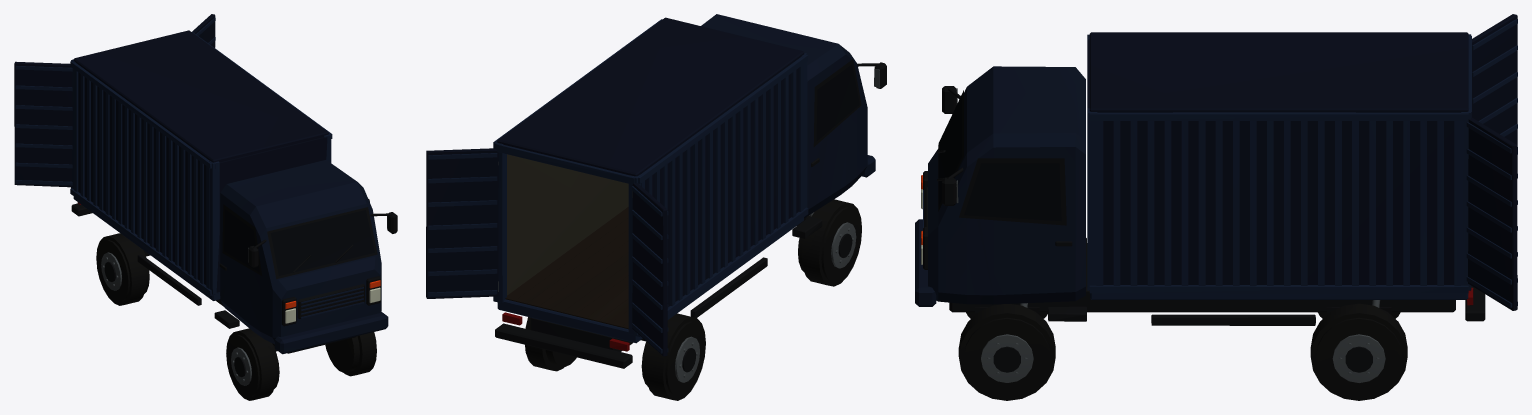
File: MetalSteezy_Camion_Caisse.fbx
3 renders of one model, left to right at view 1: azimuth 30°, elevation 25°; view 2: azimuth 150°, elevation 25°; view 3: azimuth 270°, elevation 25°, orthographic. The views are drawn at different scales.
Visible parts, largest first — view 1: MetalSteezy_Camion_Caisse; view 2: MetalSteezy_Camion_Caisse; view 3: MetalSteezy_Camion_Caisse.
Part boxes in pixels (x1,y1,x2,y2): MetalSteezy_Camion_Caisse: (14,14,397,400); MetalSteezy_Camion_Caisse: (426,14,886,400); MetalSteezy_Camion_Caisse: (915,14,1517,400).
Size of what is drawn, in the model's own units: 4.27 by 8.21 by 4.39.
